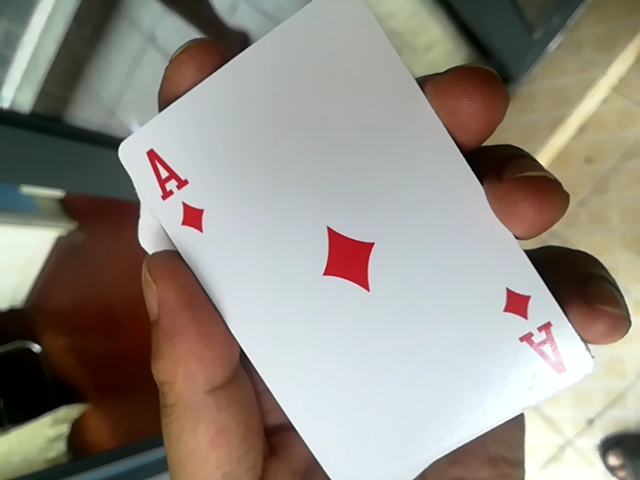fk a: (106, 1, 578, 476)
